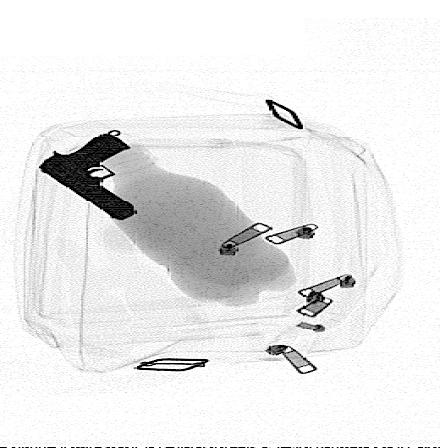Gun: (37, 132, 143, 222)
